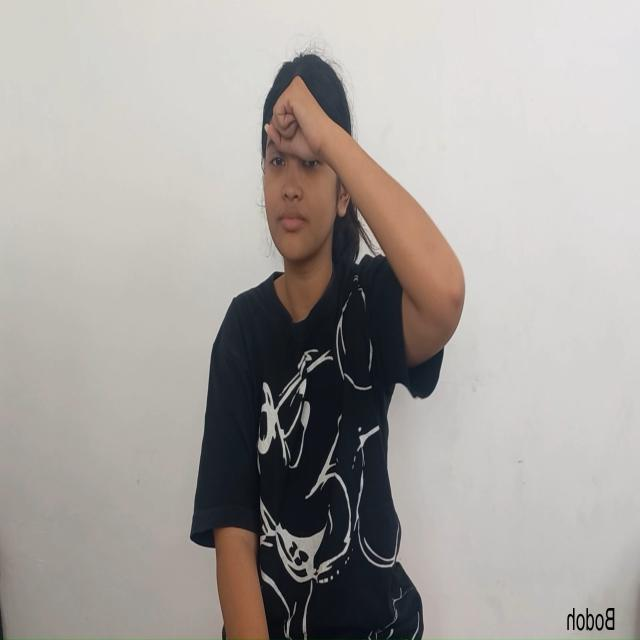Bodoh -BISINDO-: (258, 46, 468, 329)
